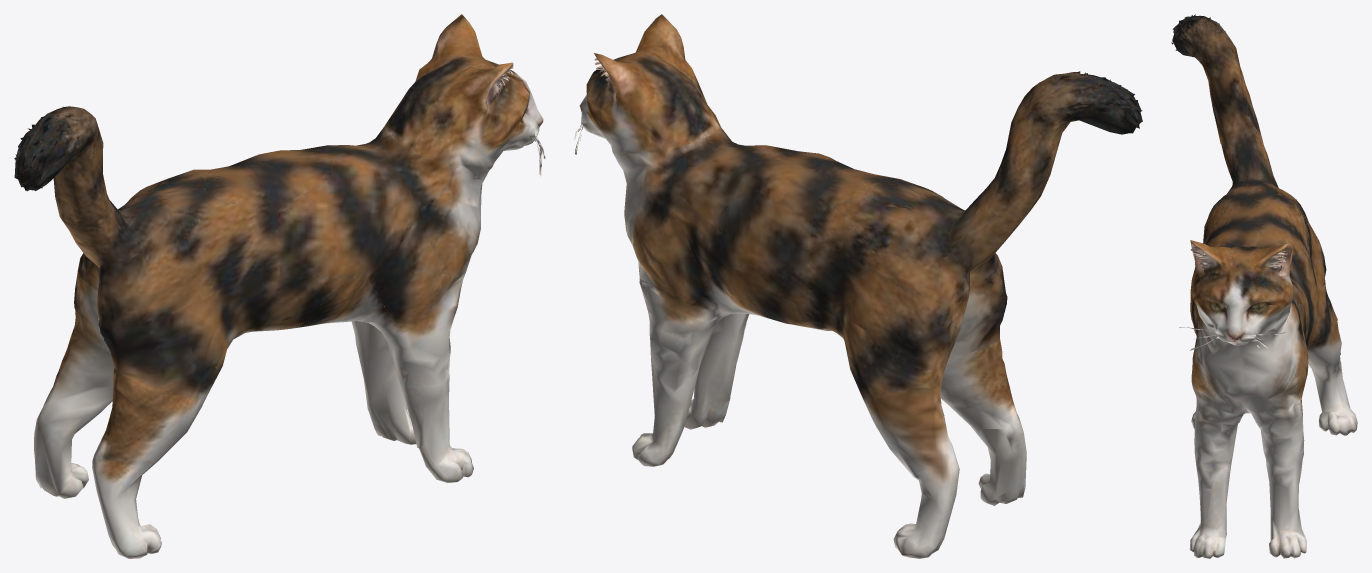
The model's file is GOTAMACAT-lo.glb.
The picture shows the model from 3 angles, left to right: view 1: azimuth 30°, elevation 25°; view 2: azimuth 150°, elevation 25°; view 3: azimuth 270°, elevation 25°; orthographic projection. The views are drawn at different scales.
Visible parts, largest first — view 1: tripo_node_34ce80a2-6563-4626-a344-edceceb9f9cf; view 2: tripo_node_34ce80a2-6563-4626-a344-edceceb9f9cf; view 3: tripo_node_34ce80a2-6563-4626-a344-edceceb9f9cf.
Boxes of the visible parts, x1,y1,x2,y2 form: tripo_node_34ce80a2-6563-4626-a344-edceceb9f9cf: (14, 14, 545, 558); tripo_node_34ce80a2-6563-4626-a344-edceceb9f9cf: (574, 14, 1142, 558); tripo_node_34ce80a2-6563-4626-a344-edceceb9f9cf: (1171, 14, 1357, 558).
Size of the model in its own units: 1.25 by 0.9994 by 0.4457.
1 material, 1 textured.
